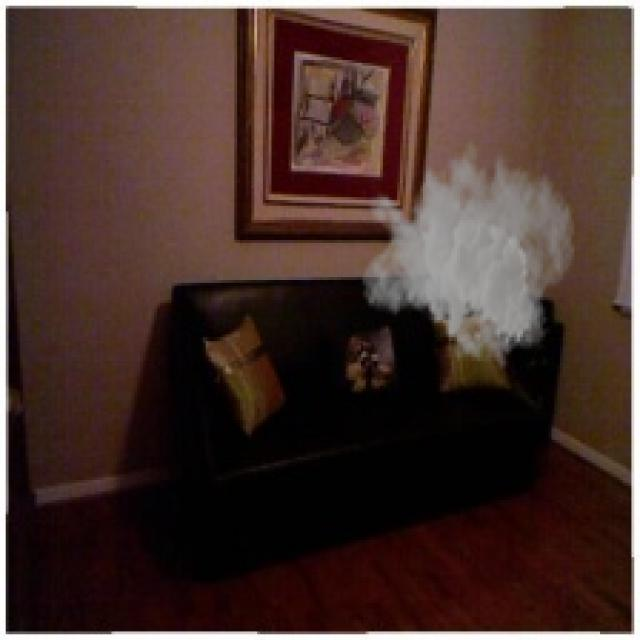smoke: (360, 132, 577, 372)
